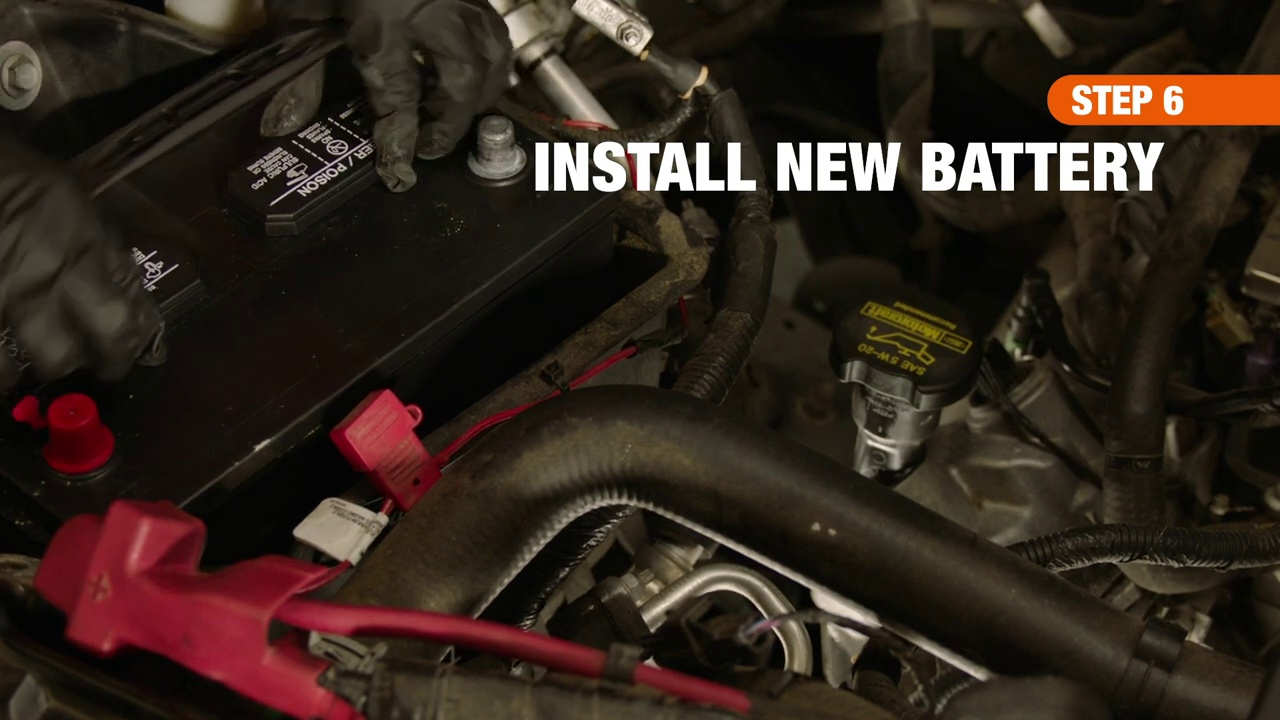battery: (1, 1, 607, 576)
neg_disconnected: (424, 62, 567, 205)
neg_touched: (349, 82, 556, 221)
pos_disconnected: (27, 352, 207, 684)
